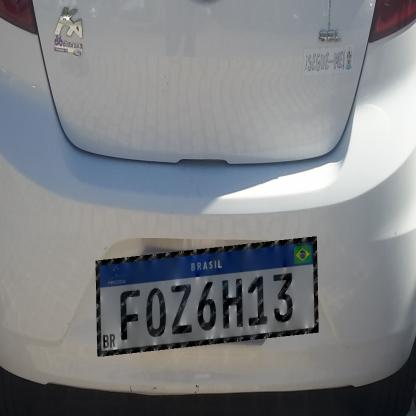PlacaM: (96, 236, 318, 356)
